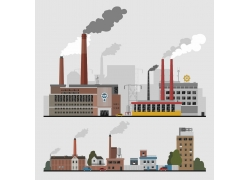dust: (153, 34, 208, 63), (75, 6, 128, 36), (55, 39, 95, 59), (105, 120, 134, 138), (71, 128, 93, 140)
